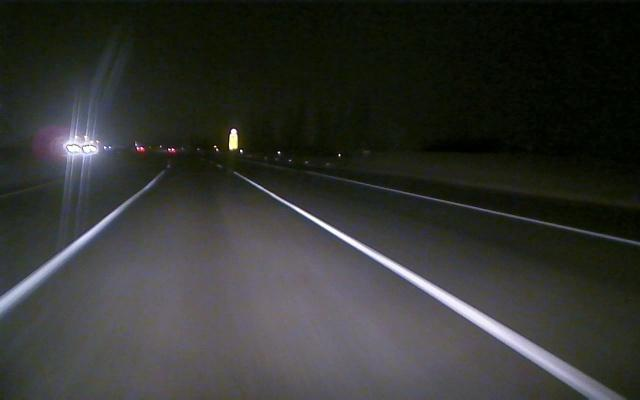lane: (235, 172, 623, 398), (1, 181, 155, 313), (365, 184, 640, 246)
